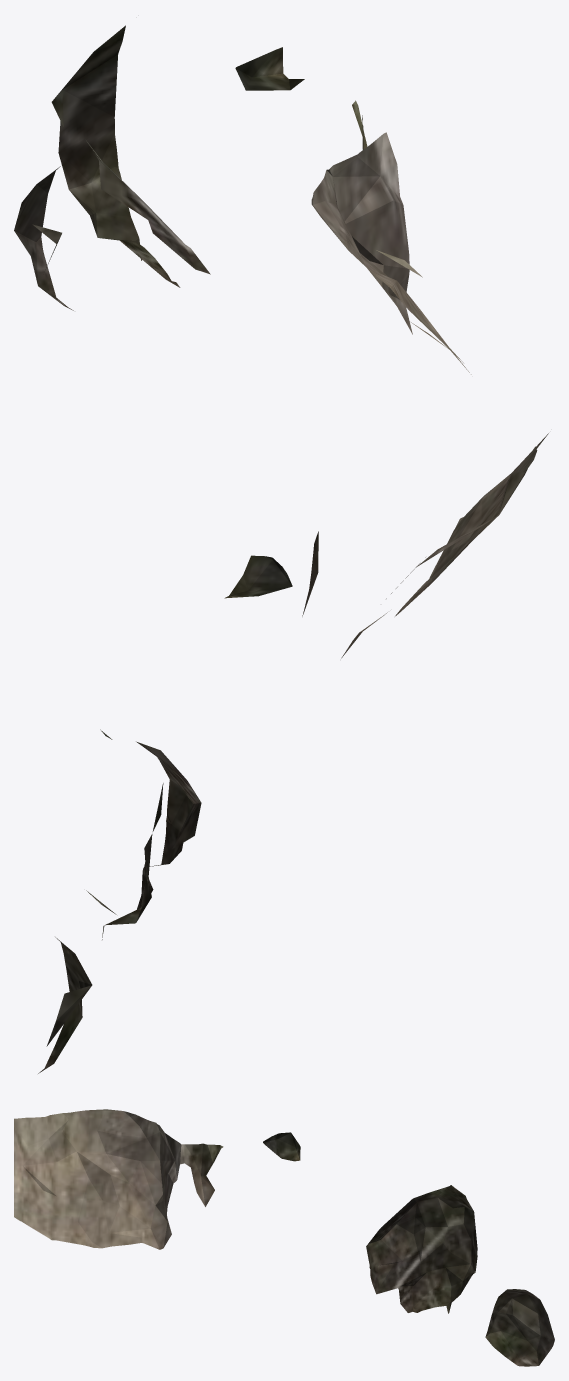
3 views of the same model, one above another, from view 1: azimuth 30°, elevation 25°; view 2: azimuth 150°, elevation 25°; view 3: azimuth 270°, elevation 25° (orthographic). The views are drawn at different scales.
Size of the model in its own units: 0.9354 by 2.55 by 5.7.
Materials: 1 (1 with a texture image).
